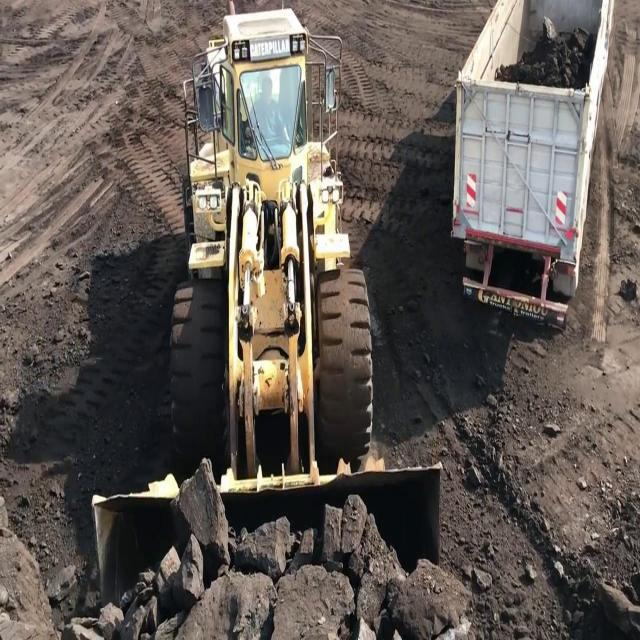Dump Truck: (450, 0, 616, 340)
Loader: (88, 0, 442, 639)
